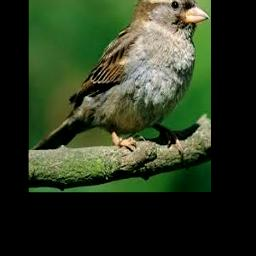Sparrow: (32, 0, 210, 155)
